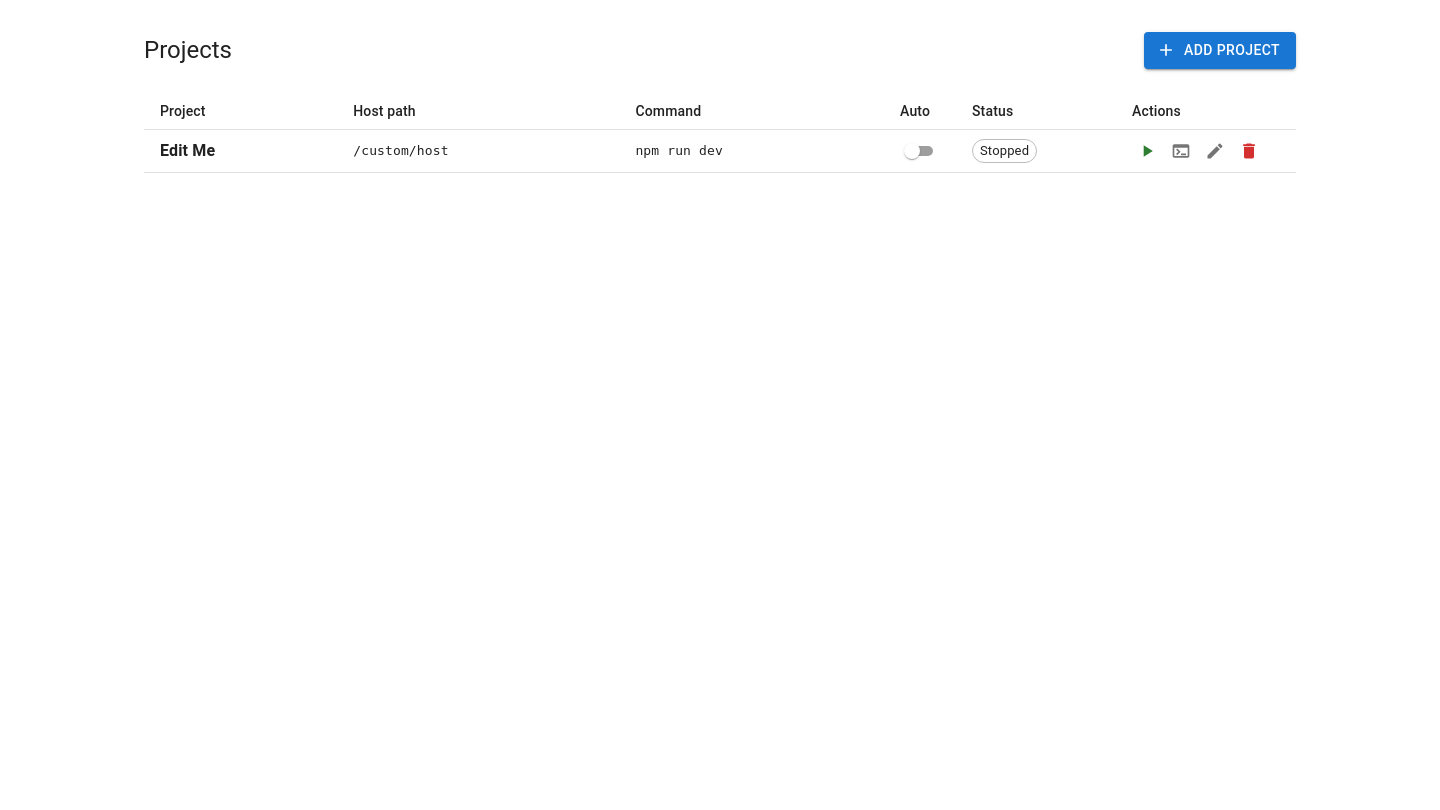
Scenario: ProjectRegistryPage › opens edit form drawer when Edit project is clicked
expect the text "Edit Me" is shown: met, box [160,140,215,160]
Click the button named "Edit project" at (1215, 150), box [1200,136,1230,166]
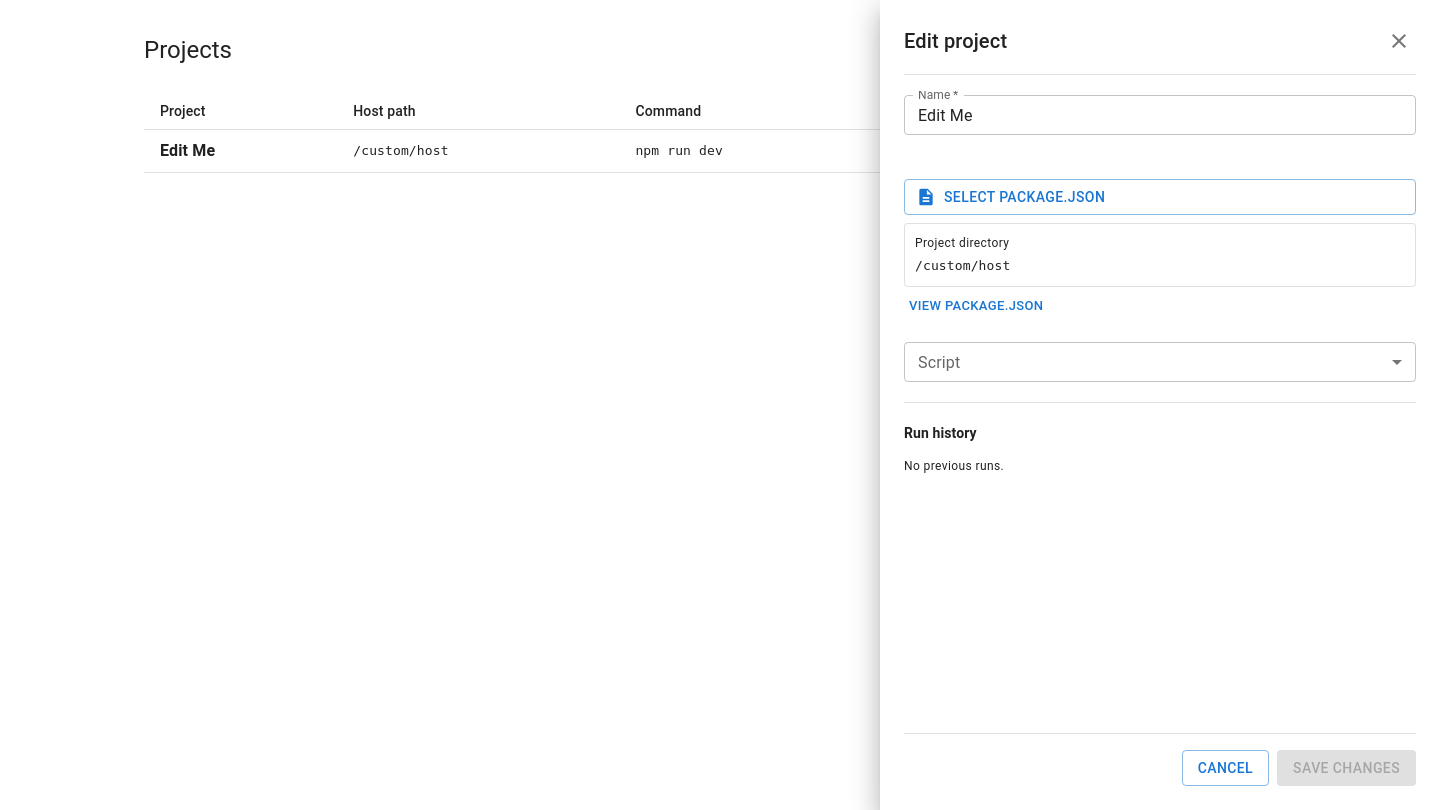
expect the field showing "Edit Me" is shown: met, box [904,95,1416,135]
expect the text with test id "selected-directory-path" reads "/custom/host": met, box [915,258,1010,273]
